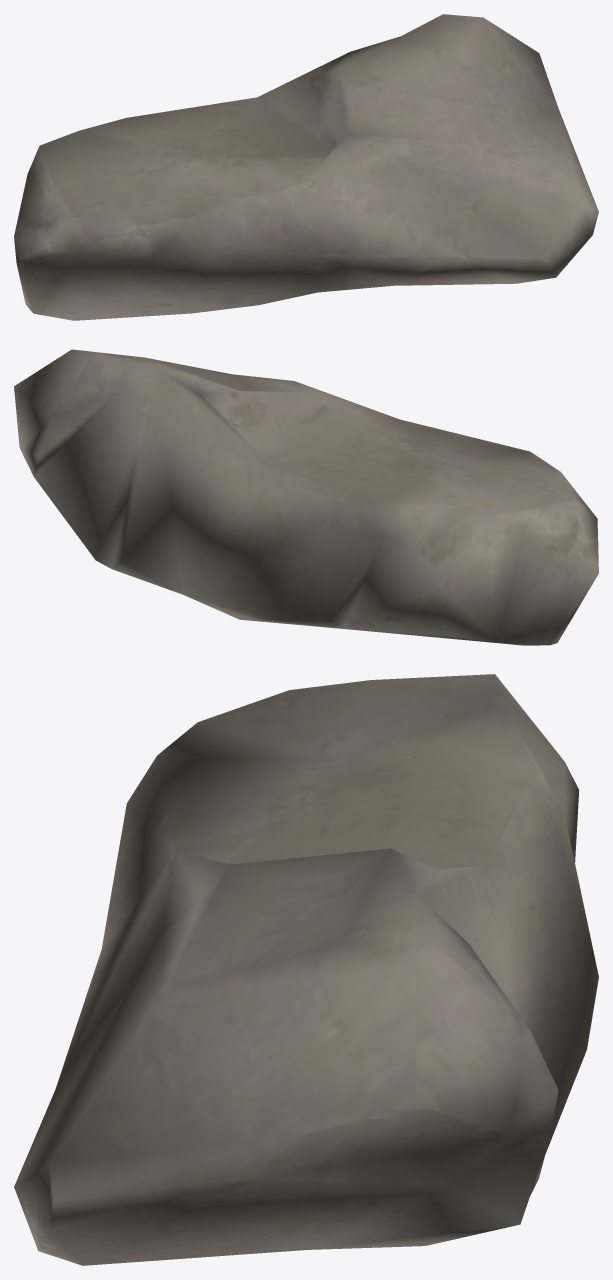
Rendered from rock_ash.glb.
3 views of the same model, one above another, from view 1: azimuth 30°, elevation 25°; view 2: azimuth 150°, elevation 25°; view 3: azimuth 270°, elevation 25° (orthographic). The views are drawn at different scales.
Parts seen in each view (by area): view 1: moon_rock_01_LOD0; view 2: moon_rock_01_LOD0; view 3: moon_rock_01_LOD0.
Part boxes in pixels (left/top/right/bottom): moon_rock_01_LOD0: left=14, top=14, right=598, bottom=320; moon_rock_01_LOD0: left=14, top=349, right=598, bottom=645; moon_rock_01_LOD0: left=14, top=674, right=598, bottom=1265.
Size of what is drawn, in the model's own units: 0.2121 by 0.0745 by 0.1107.
Materials: 1 (1 with a texture image).
